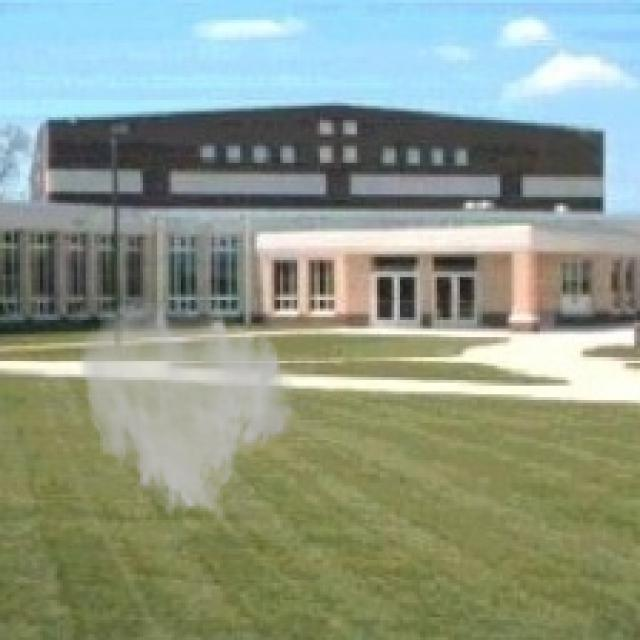smoke: (77, 294, 297, 526)
